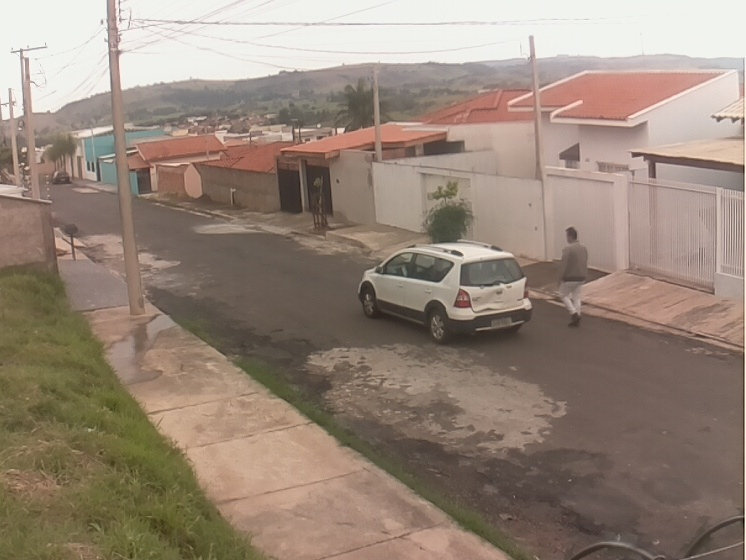person: (555, 226, 590, 328)
